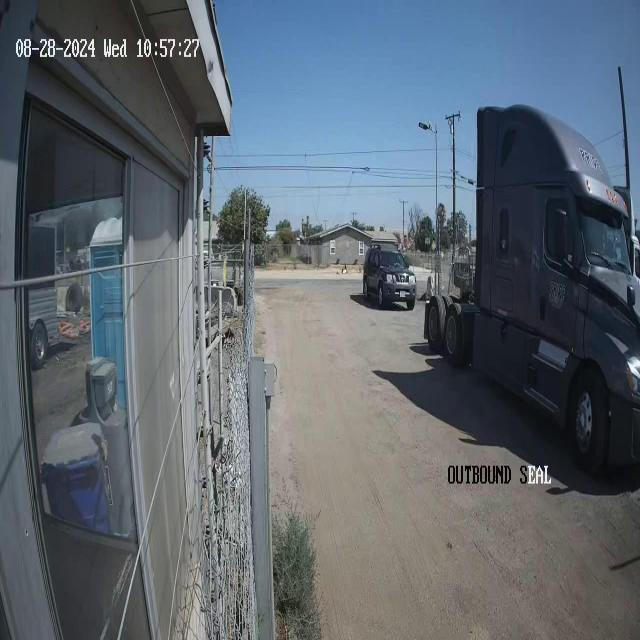TRUCK_IN: (423, 99, 639, 478)
